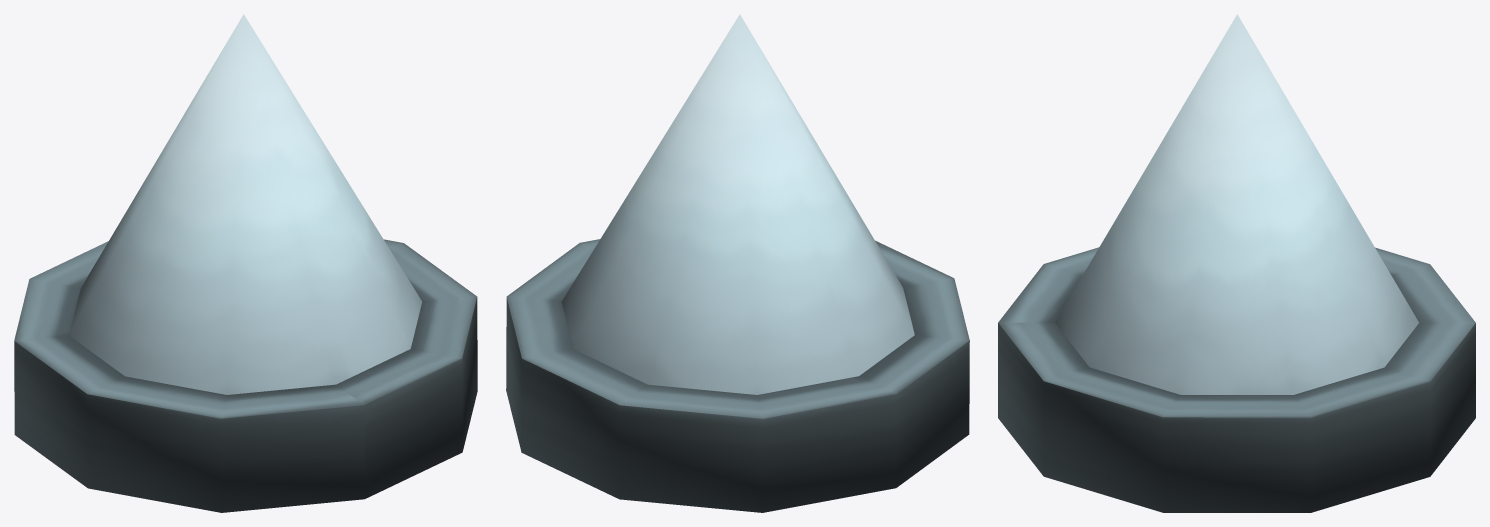
Rendered from Wooden_Robot_Spike.fbx.
3 renders of one model, left to right at view 1: azimuth 30°, elevation 25°; view 2: azimuth 150°, elevation 25°; view 3: azimuth 270°, elevation 25°, orthographic.
Visible parts, largest first — view 1: Wooden_Robot_Spike; view 2: Wooden_Robot_Spike; view 3: Wooden_Robot_Spike.
Part boxes in pixels (x1,y1,x2,y2): Wooden_Robot_Spike: (14, 14, 477, 512); Wooden_Robot_Spike: (506, 14, 969, 512); Wooden_Robot_Spike: (998, 14, 1475, 512).
Size of the model in its own units: 0.6205 by 0.6647 by 0.6331.
